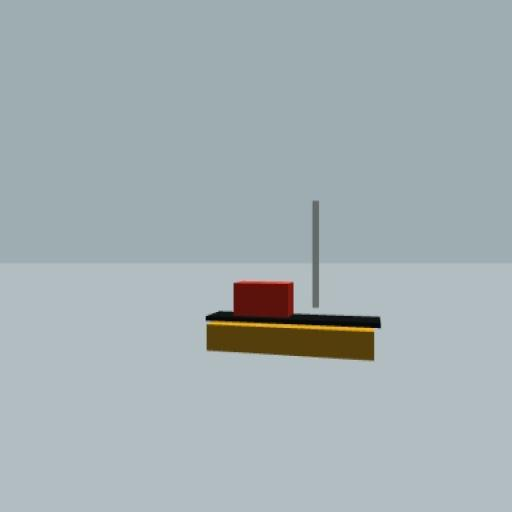vessel: (207, 198, 383, 363)
